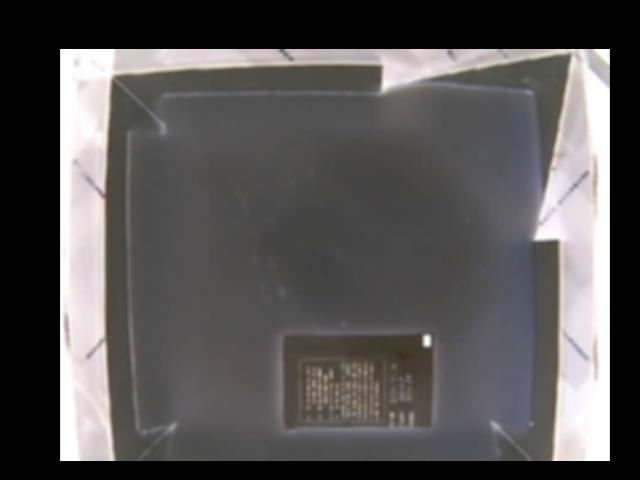Medicine: (279, 331, 434, 428)
